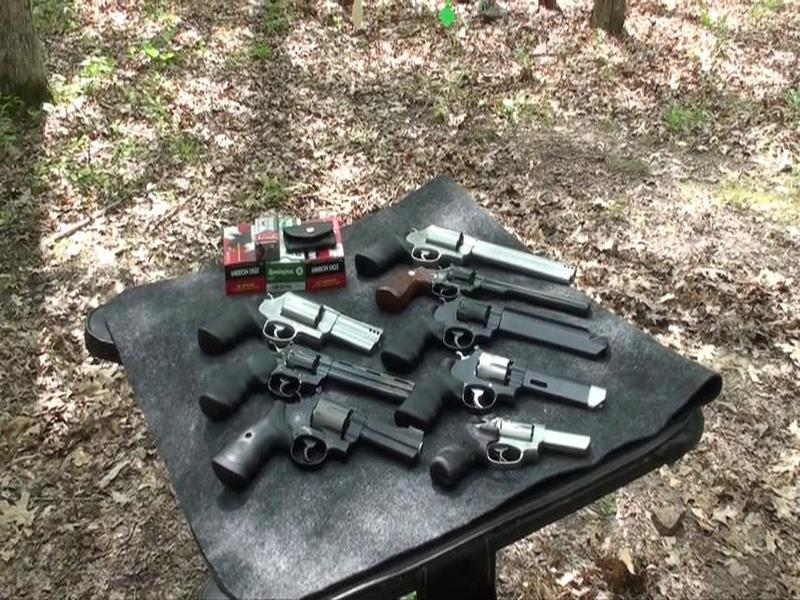Revolver: (229, 390, 428, 492), (357, 213, 580, 292), (195, 288, 387, 358), (431, 414, 596, 491)
